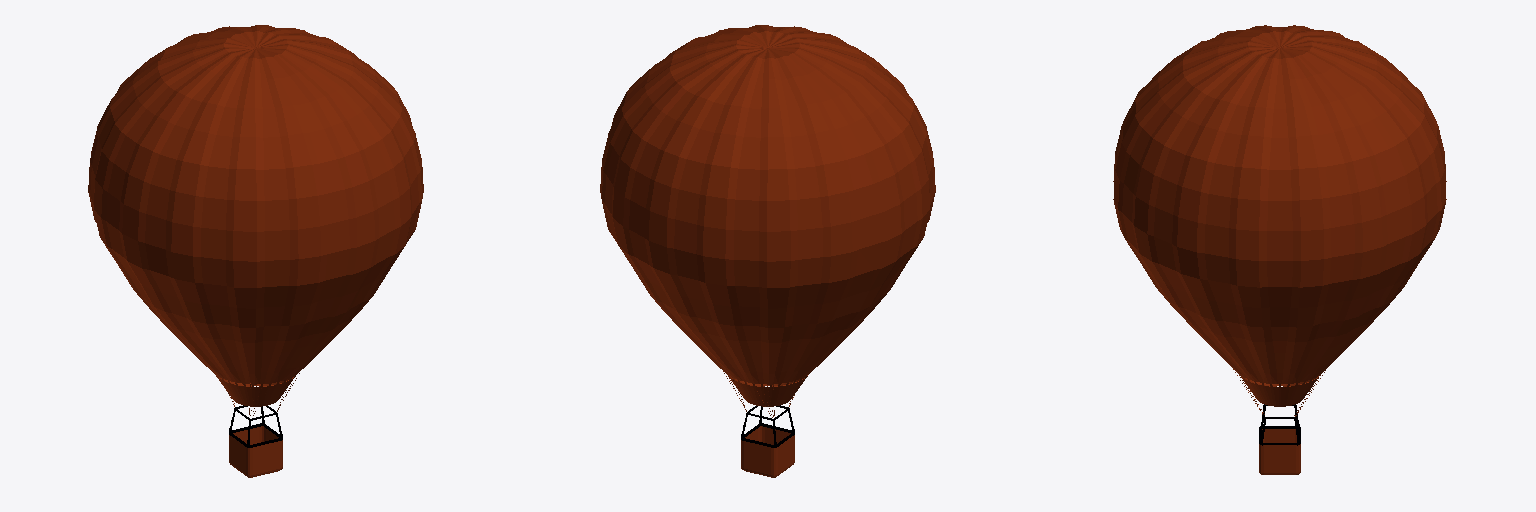
The model's file is Jugador2.obj.
3 views of the same model, side by side, from view 1: azimuth 30°, elevation 25°; view 2: azimuth 150°, elevation 25°; view 3: azimuth 270°, elevation 25° (orthographic).
Parts seen in each view (by area): view 1: Jugador2_Object009; view 2: Jugador2_Object009; view 3: Jugador2_Object009.
Boxes of the visible parts, box(x1,y1,x2,y2) form: Jugador2_Object009: box(88, 25, 423, 477); Jugador2_Object009: box(600, 25, 935, 477); Jugador2_Object009: box(1113, 25, 1446, 474).
Size of the model in its own units: 9.56 by 13.4 by 9.56.